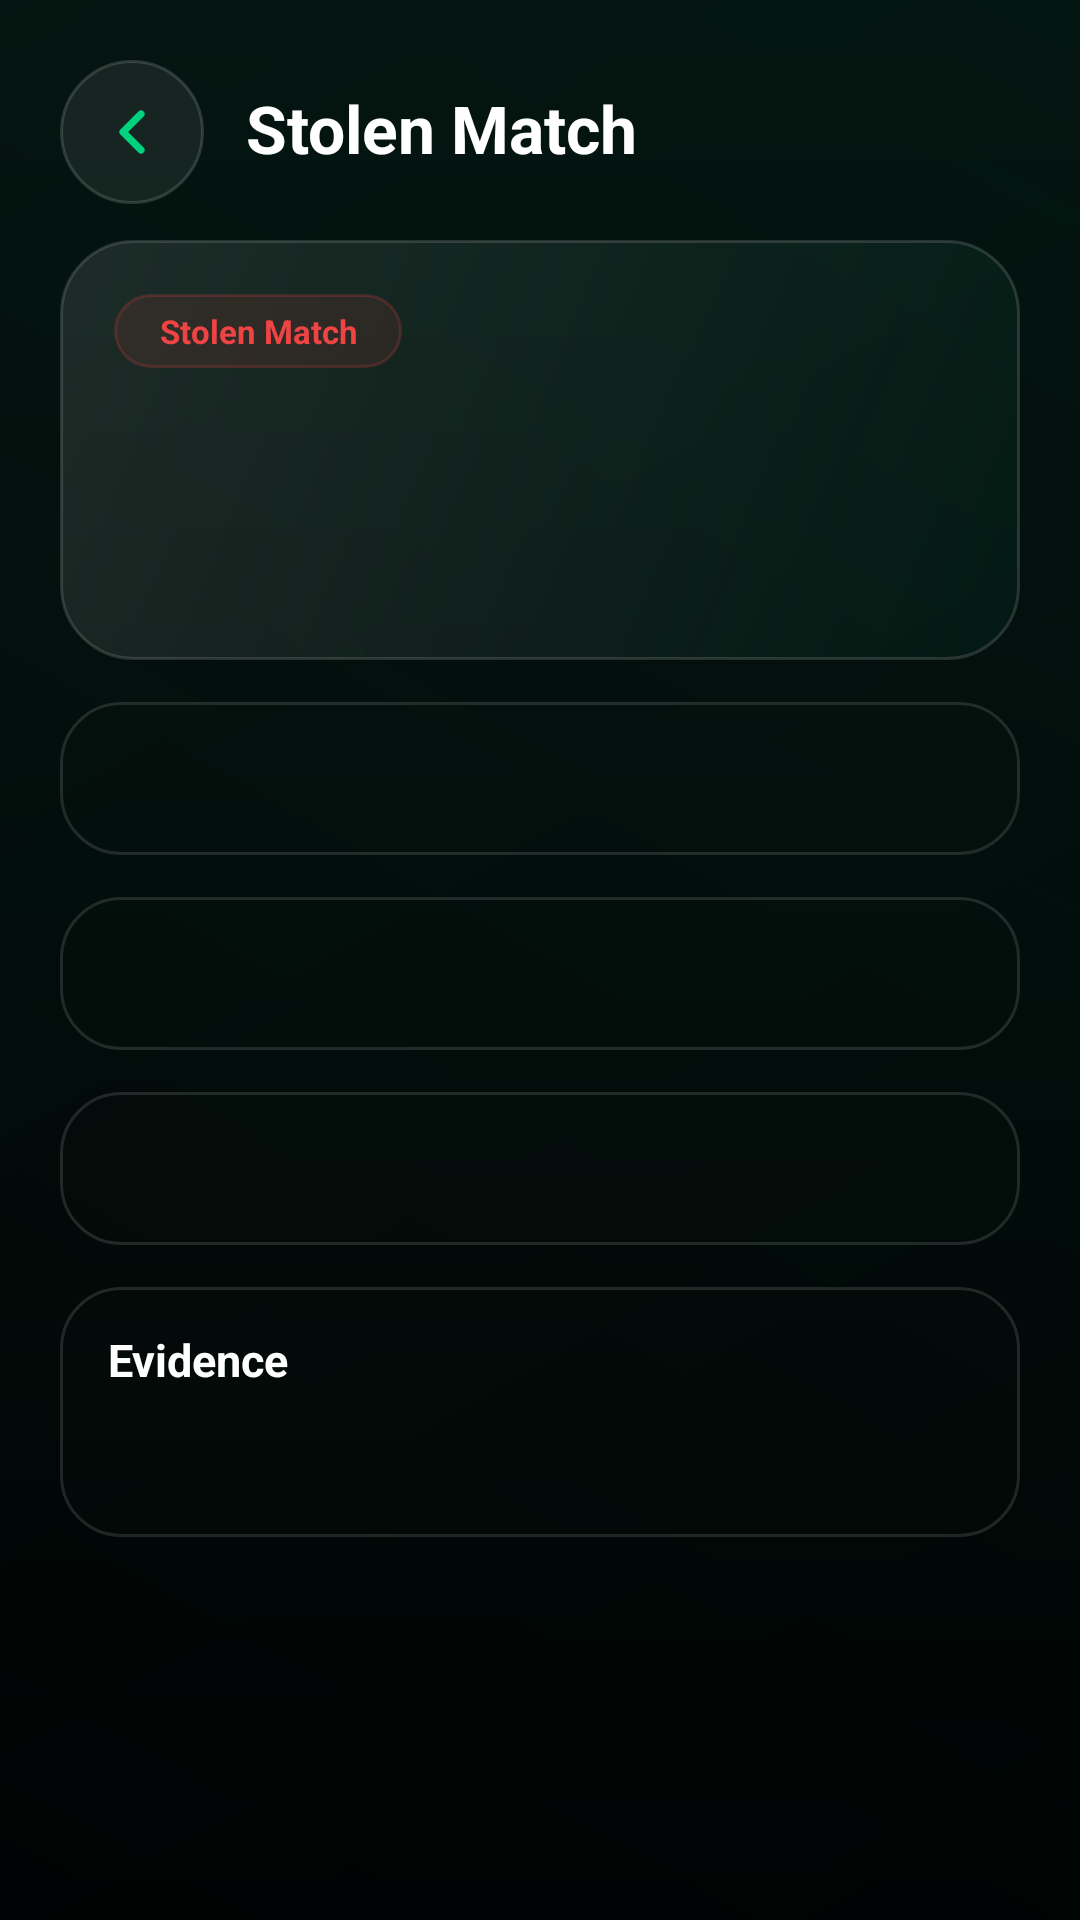

Icons on this 1080px x 1920px Android screen, each with the point to tap as point (x, y):
Back: point (132, 132)
